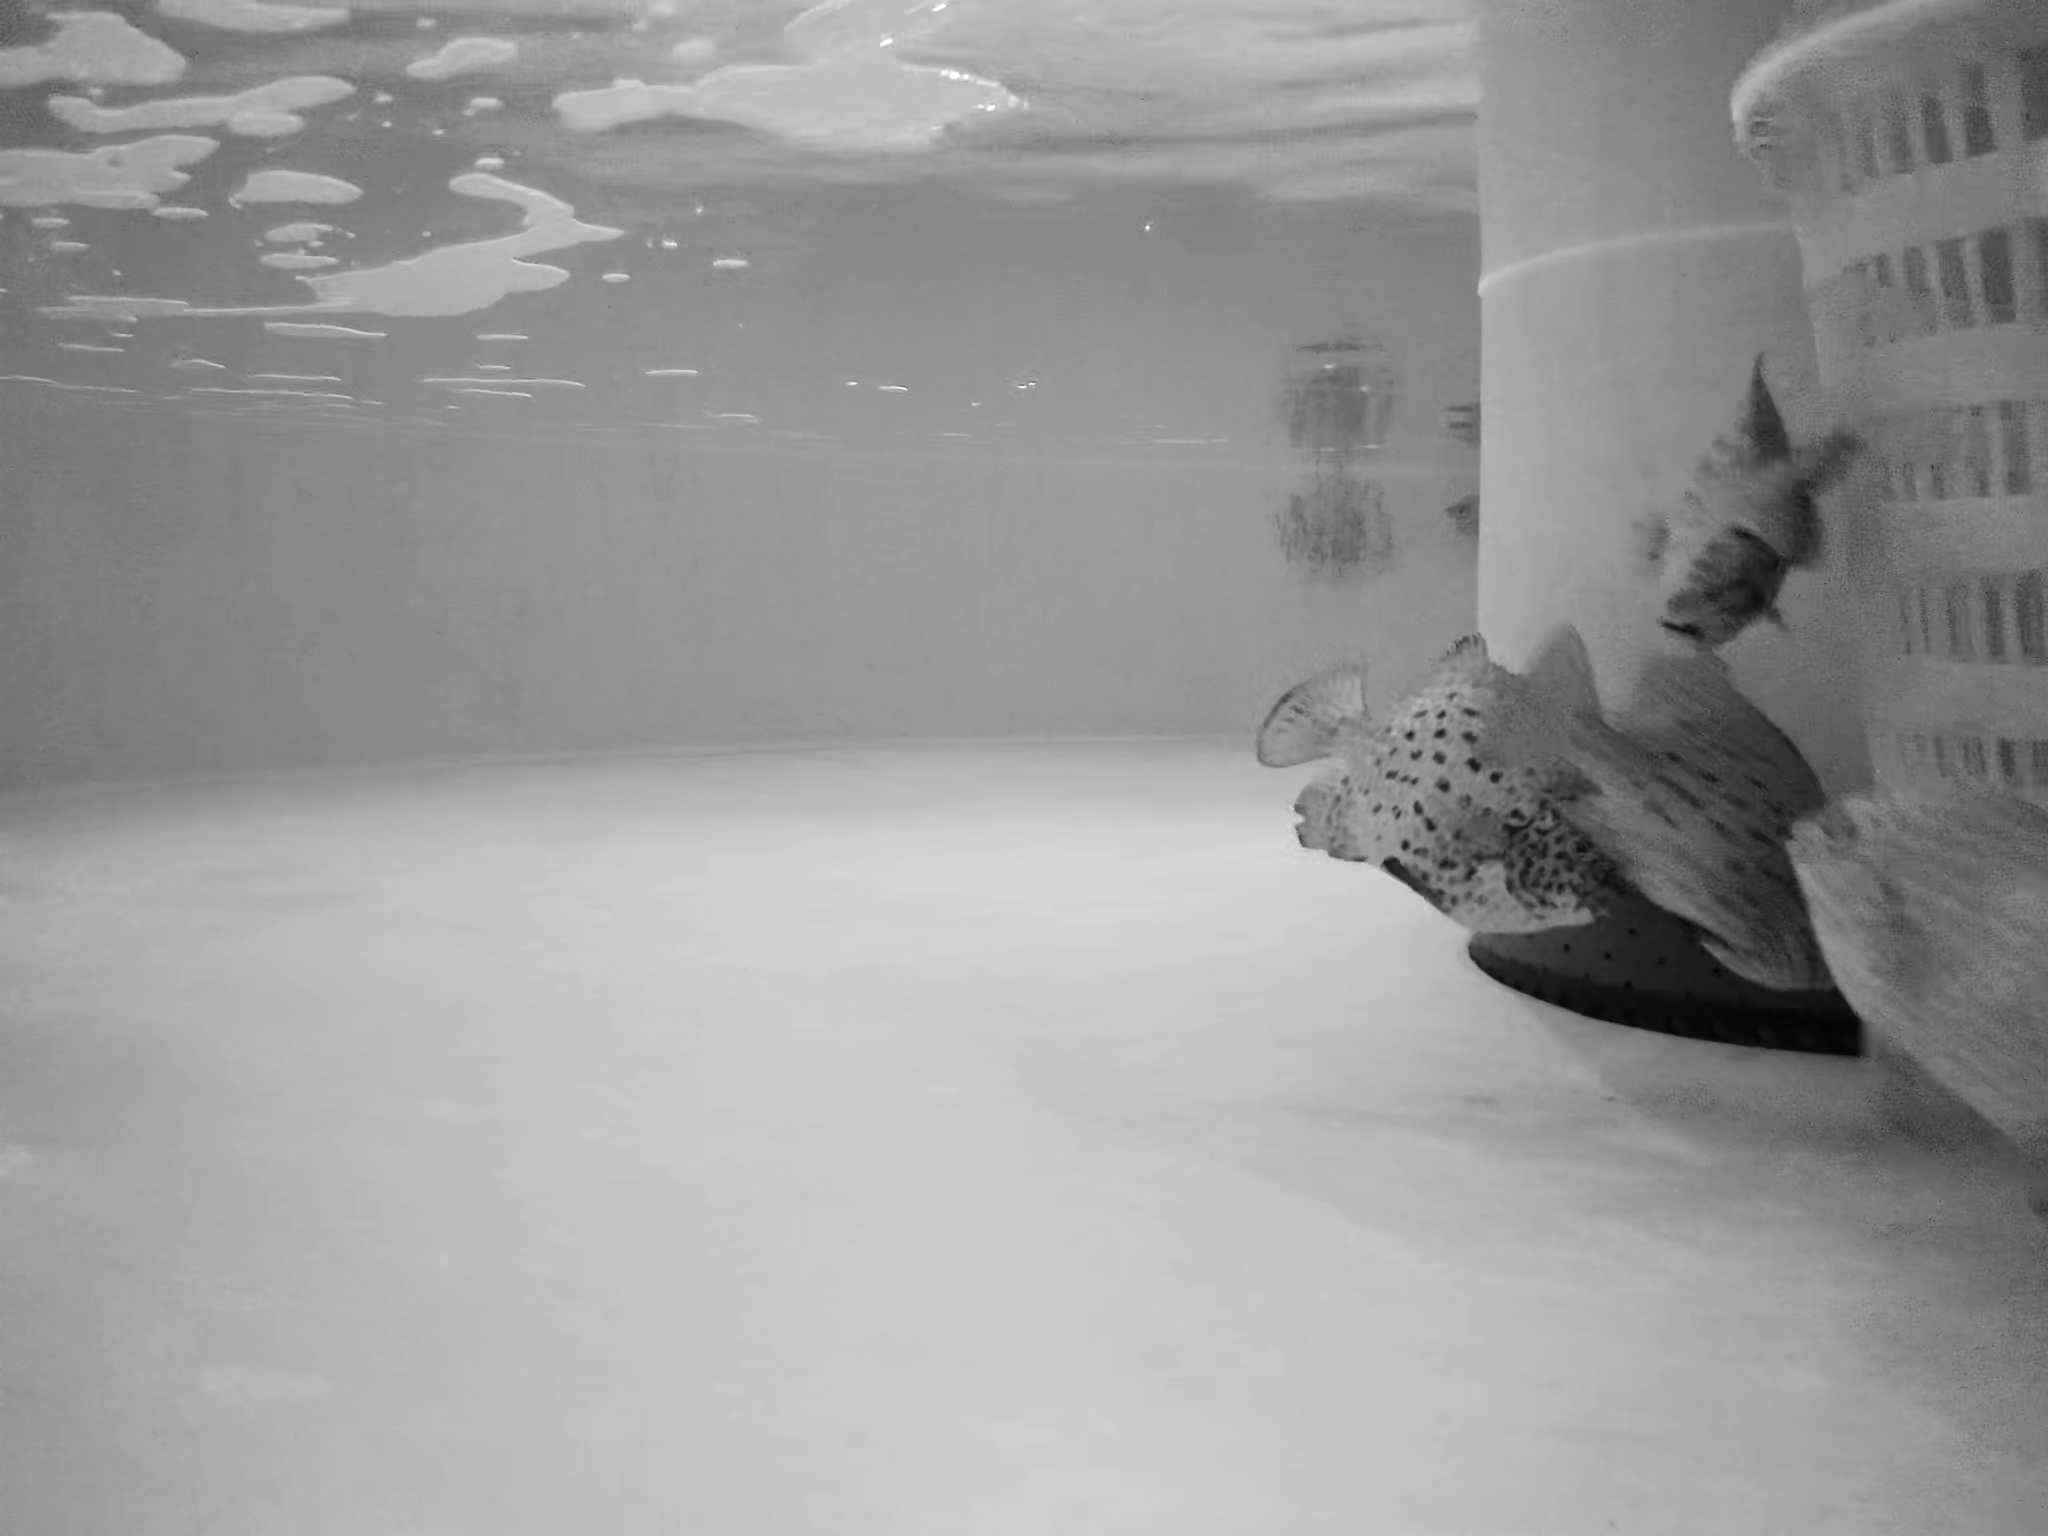fish: (1540, 616, 1850, 995), (1242, 632, 1606, 934), (1793, 771, 2048, 1176), (1624, 363, 1853, 631)
